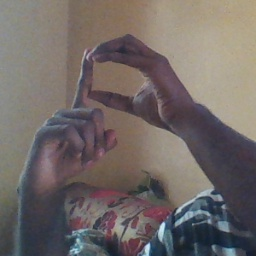P: (46, 32, 184, 172)
